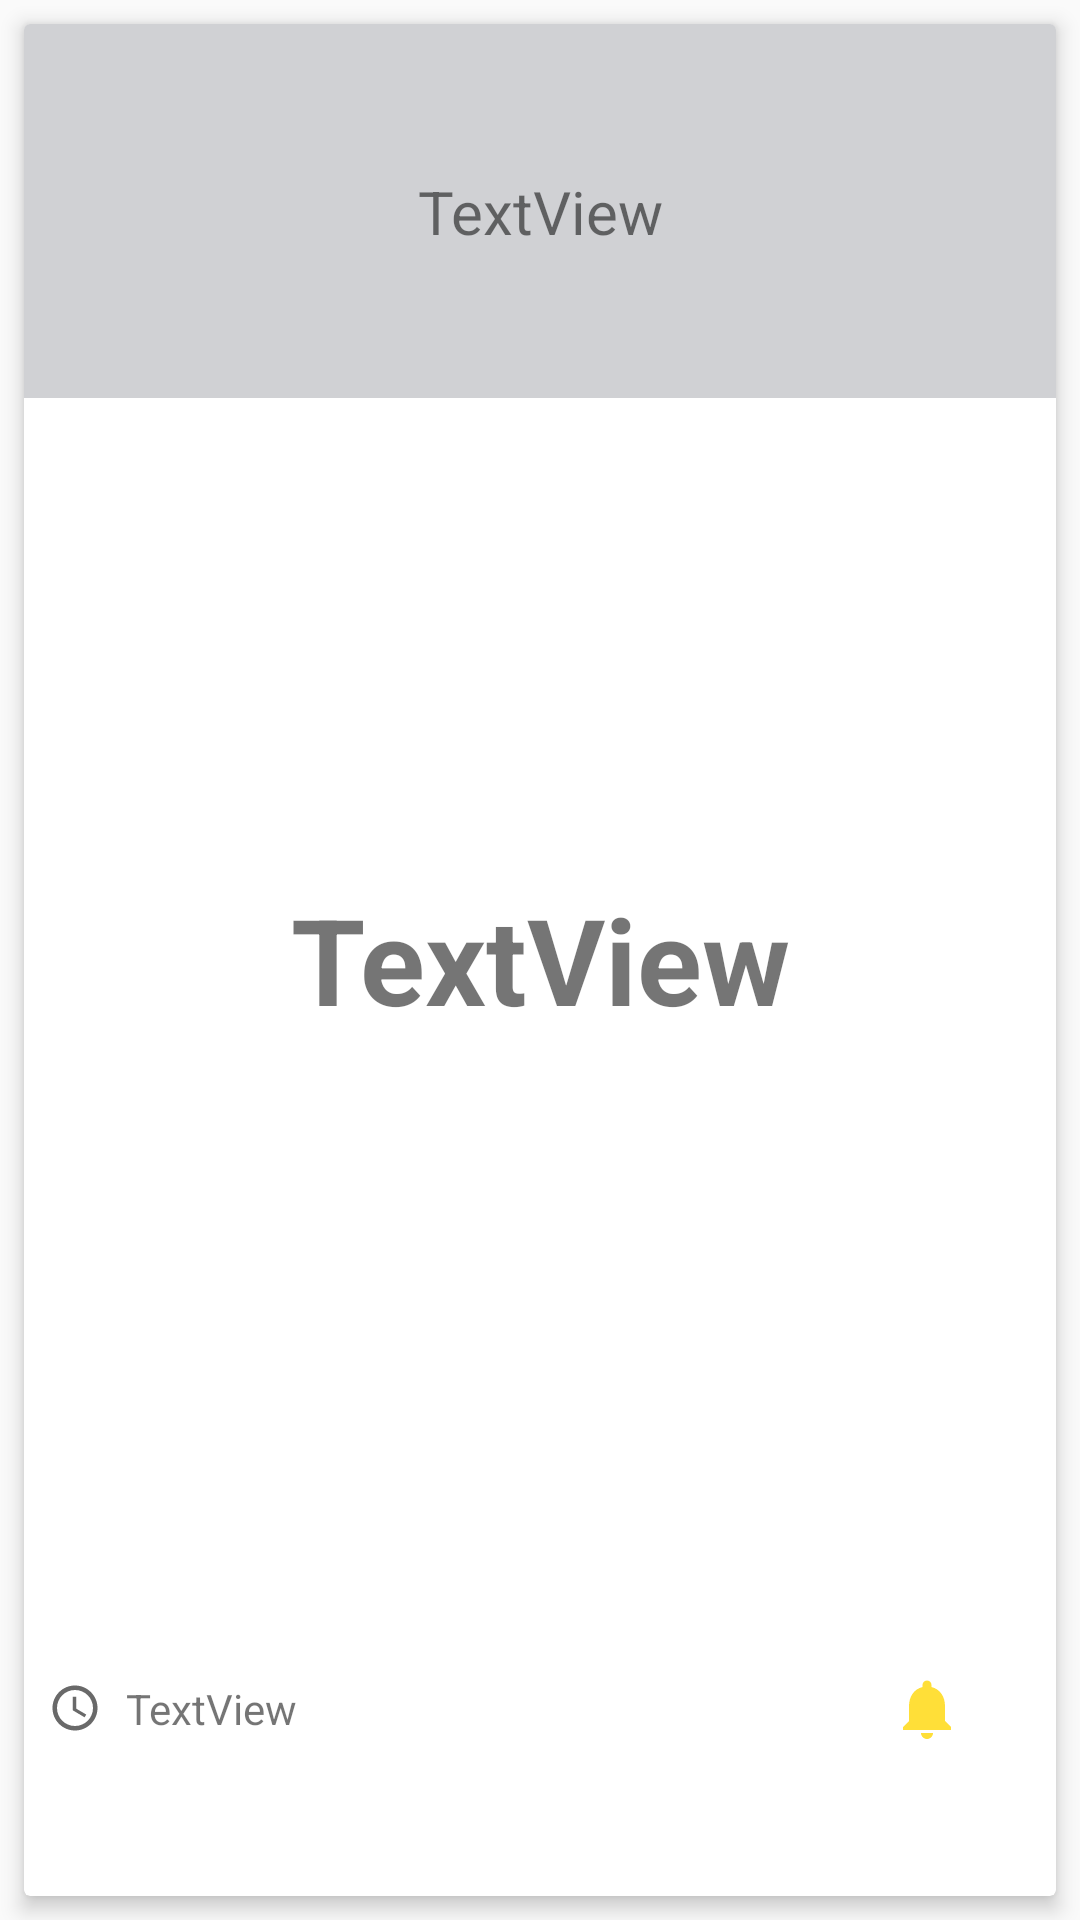

Icons on this 1080 × 1920 Android screen, each with the point to tap as [x,y]:
notifications: [927,1709]
